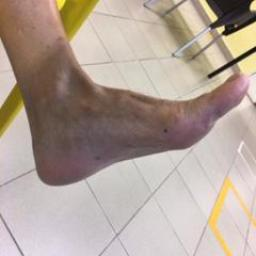Medial View -Left Foot-: (2, 43, 253, 214)
